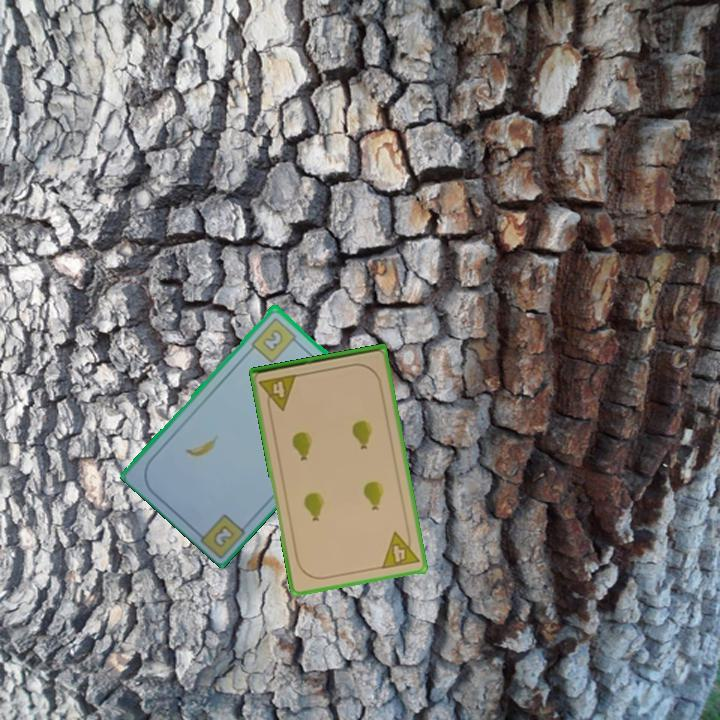2b: (248, 313, 303, 366), (209, 521, 237, 550)
4p: (378, 526, 422, 572), (256, 371, 300, 415)
